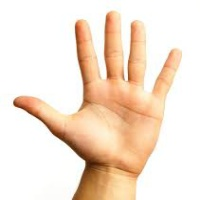ring: (127, 17, 153, 94)
